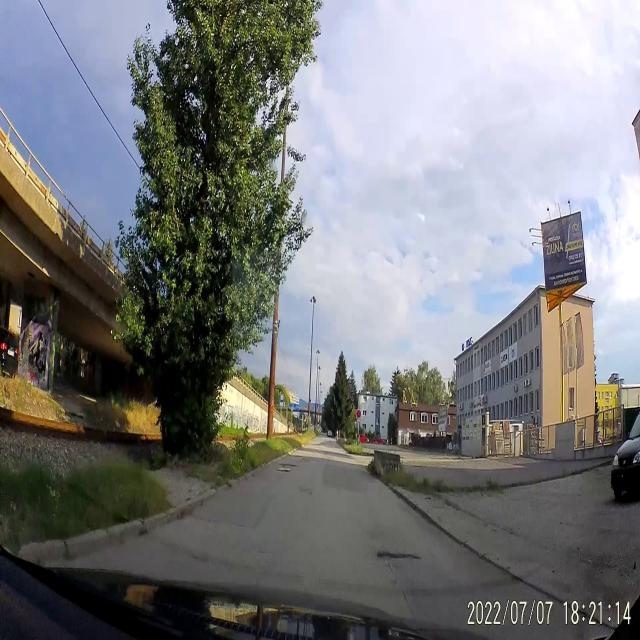Manhole: (277, 467, 292, 472)
Pothole: (372, 546, 421, 562), (279, 464, 299, 466)
